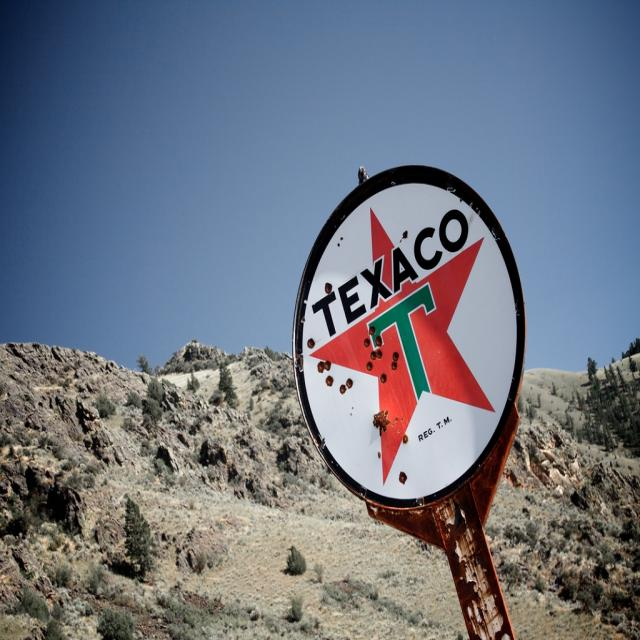texaco: (302, 183, 519, 500)
